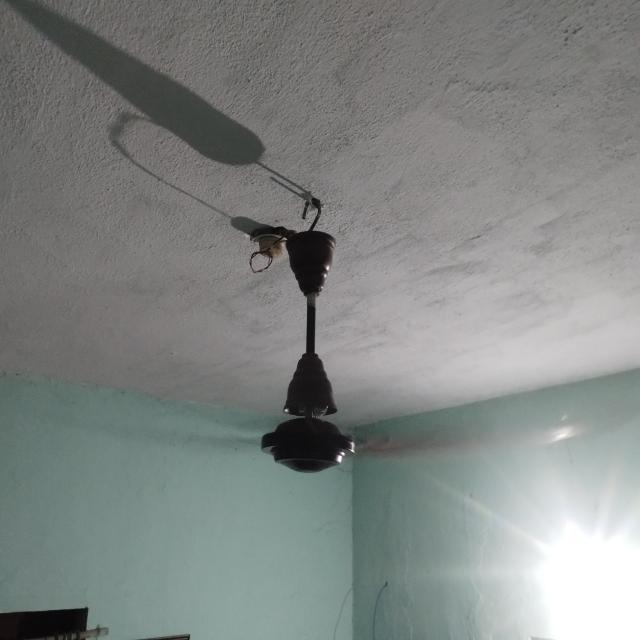fan_on: (64, 224, 623, 472)
